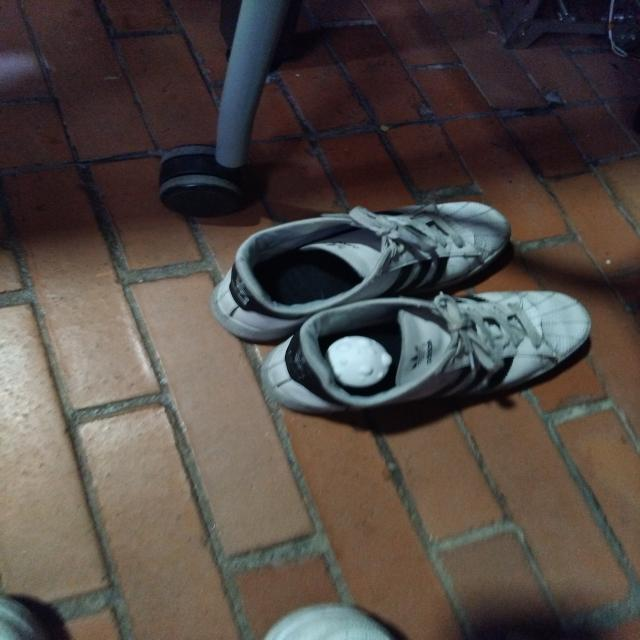Hongo: (317, 334, 403, 390)
